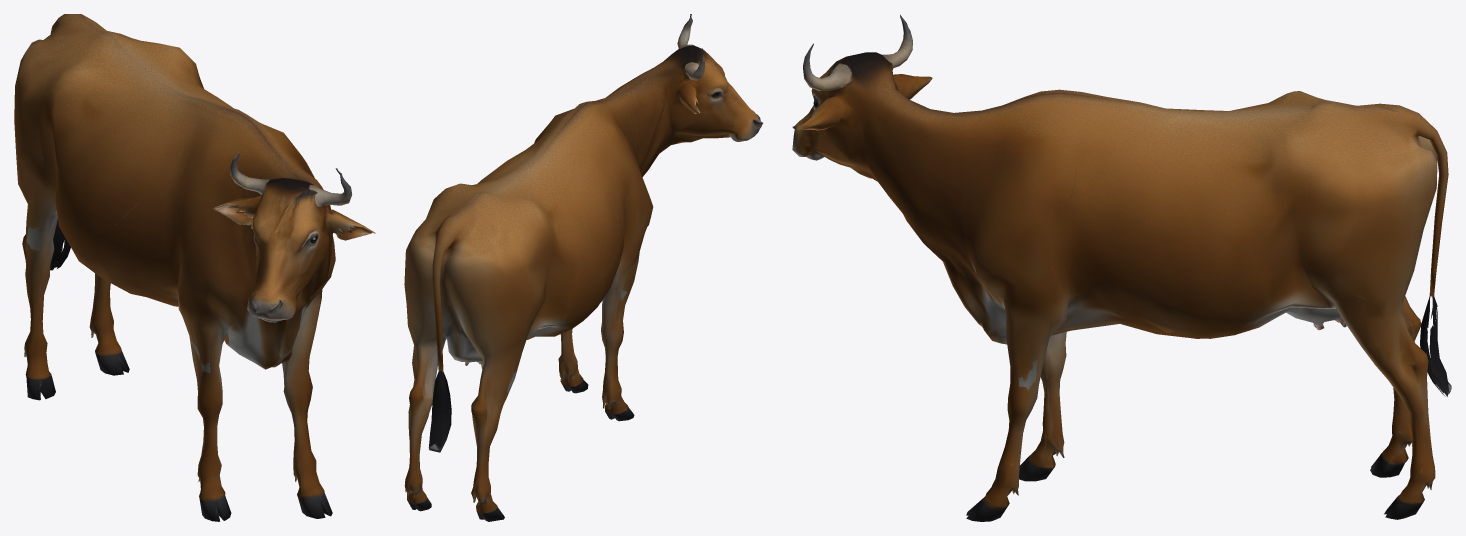
Rendered from inek.glb.
3 views of the same model, side by side, from view 1: azimuth 30°, elevation 25°; view 2: azimuth 150°, elevation 25°; view 3: azimuth 270°, elevation 25° (orthographic). The views are drawn at different scales.
Bounding box in the file's own units: 0.3477 × 0.7075 × 0.9541.
Materials: 1 (1 with a texture image).
